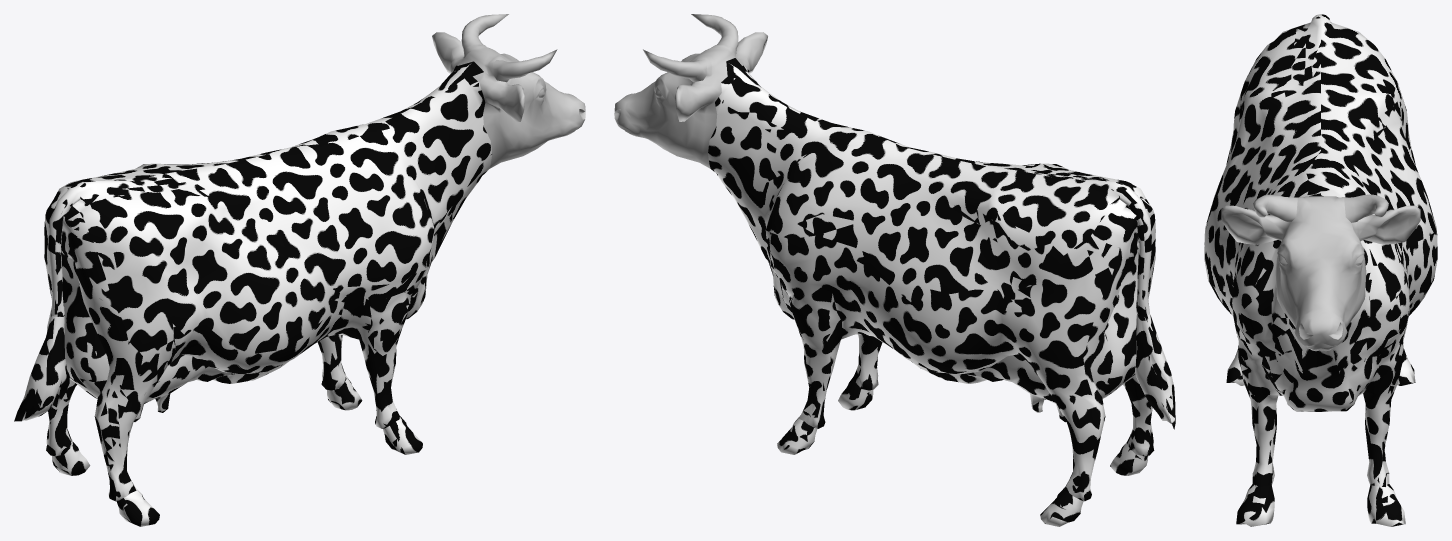
Rendered from tex_cow.obj.
3 renders of one model, left to right at view 1: azimuth 30°, elevation 25°; view 2: azimuth 150°, elevation 25°; view 3: azimuth 270°, elevation 25°, orthographic. The views are drawn at different scales.
Parts seen in each view (by area): view 1: cow; view 2: cow; view 3: cow.
Part boxes in pixels (left/top/right/bottom): cow: left=14, top=14, right=585, bottom=526; cow: left=614, top=14, right=1175, bottom=526; cow: left=1204, top=14, right=1437, bottom=526.
Size of the model in its own units: 21.76 by 13.33 by 7.09.
